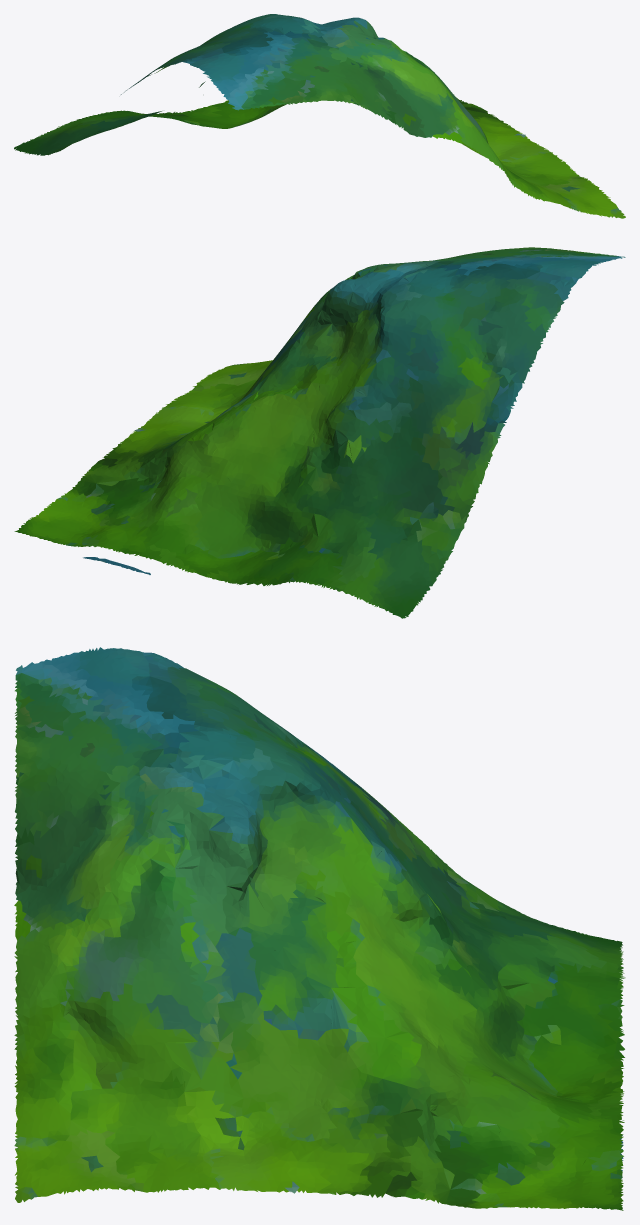
File: chunk_2_1_LOD0.glb
3 renders of one model, top to bottom at view 1: azimuth 30°, elevation 25°; view 2: azimuth 150°, elevation 25°; view 3: azimuth 270°, elevation 25°, orthographic. The views are drawn at different scales.
Parts seen in each view (by area): view 1: world; view 2: world; view 3: world.
Boxes of the visible parts, x1=… form: world: x1=14, y1=14, x2=625, y2=218; world: x1=14, y1=247, x2=625, y2=618; world: x1=14, y1=647, x2=625, y2=1210.
Bounding box in the file's own units: 99.53 × 56.3 × 98.27.
1 material, 1 textured.
